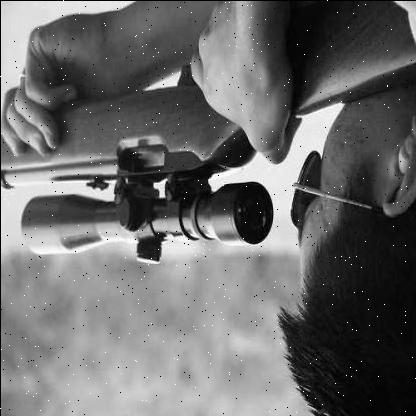rifle: (6, 1, 416, 293)
